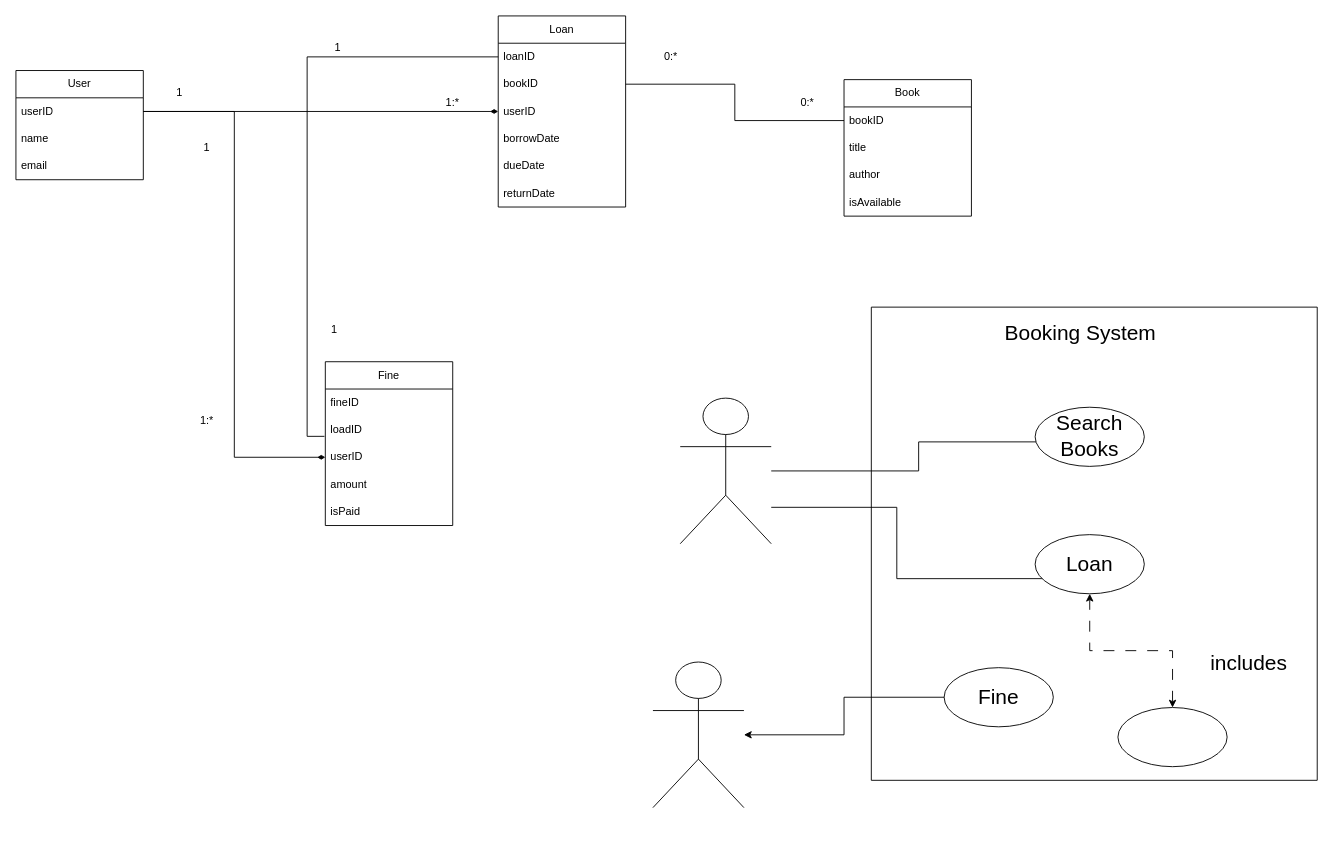
Image size: 1333x843. Some labels were removed from this diagram. Here are the shapes that lost their labels. From the top down, the centre of each, then its label:
At [725,470]: "Actor".
At [698,734]: "Admin".
At [1172,737]: "Login".
